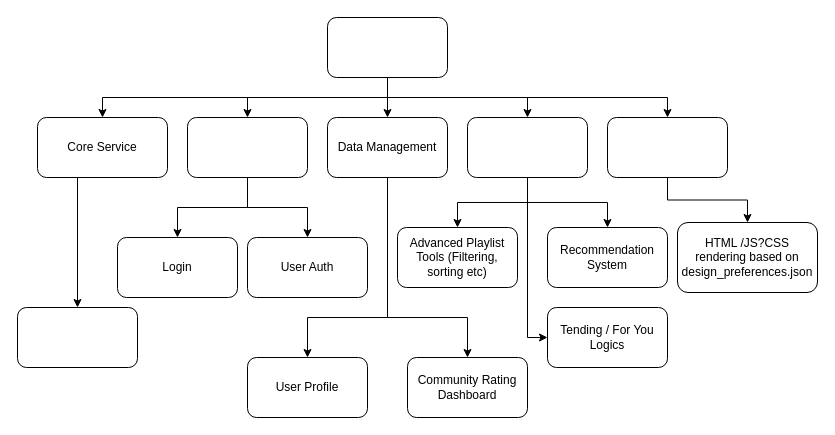
Image size: 835x435. Some labels were removed from this diagram. Here are the shapes that lost their labels. From the top down, the centre of each, then its label:
the point at 387,47: SME
the point at 247,147: User Authentication
the point at 527,147: Content & Discovery
the point at 667,147: Web UI / Interface
the point at 77,337: Connections / API
